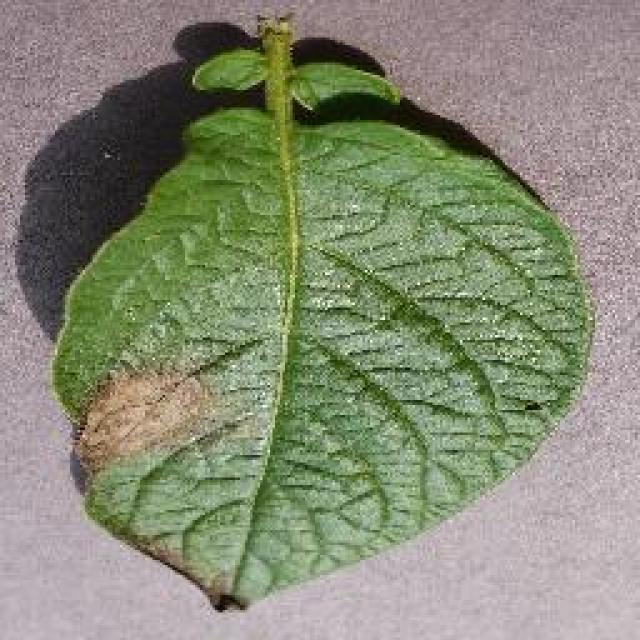Potato___Late_blight: (47, 10, 604, 619)
